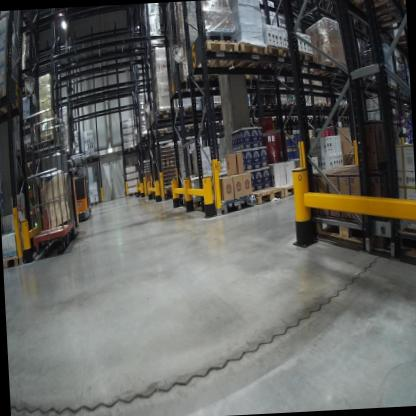pallet: (308, 206, 369, 253), (189, 41, 242, 80), (219, 35, 268, 77), (341, 0, 406, 30), (206, 187, 256, 217), (250, 41, 292, 75), (247, 183, 286, 210), (273, 173, 304, 201), (0, 81, 21, 122), (314, 58, 348, 82), (283, 48, 314, 74), (177, 190, 210, 210), (2, 248, 25, 271), (161, 184, 184, 203), (36, 131, 57, 150), (392, 29, 407, 51), (19, 138, 39, 154), (210, 98, 230, 113), (22, 52, 37, 71), (172, 104, 195, 116), (181, 121, 202, 132), (151, 124, 169, 136), (312, 99, 328, 111), (259, 99, 276, 110), (156, 106, 173, 117), (276, 99, 290, 111), (383, 74, 392, 91), (328, 101, 343, 110), (82, 151, 97, 160), (120, 145, 134, 154), (286, 114, 299, 123), (302, 113, 315, 121), (342, 101, 353, 109), (391, 81, 399, 91), (270, 115, 280, 122), (129, 190, 140, 196), (90, 200, 99, 207)
pallet_truck: (11, 105, 86, 262), (65, 149, 97, 222)
